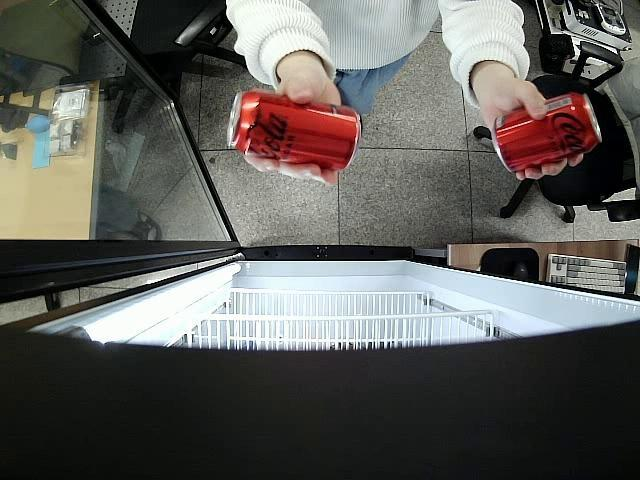11_cocaColaZero: (226, 85, 363, 174), (494, 89, 605, 174)
